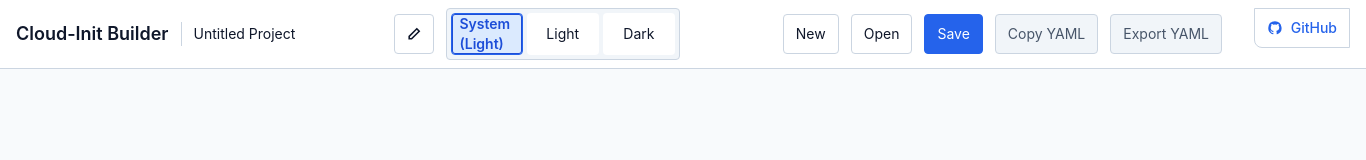
TopBar project rename › opens inline editor from Rename project beside the readable title
Expected: the text "Untitled Project" is shown, x1=194 y1=25 x2=295 y2=42
What coordinates should you click on to do the following:
click the button named "Rename project"
I would click on:
 (414, 34)
Its box is x1=394 y1=14 x2=434 y2=54.
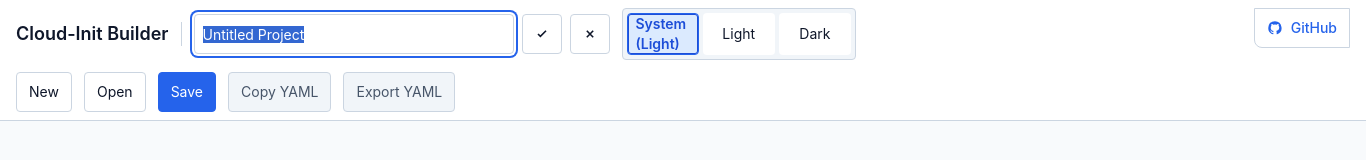
Expected: the field named "Project name" holds "Untitled Project", x1=194 y1=14 x2=514 y2=54
Expected: the button named "Save project name" is shown, x1=522 y1=14 x2=562 y2=54
Expected: the button named "Cancel project rename" is shown, x1=570 y1=14 x2=610 y2=54
